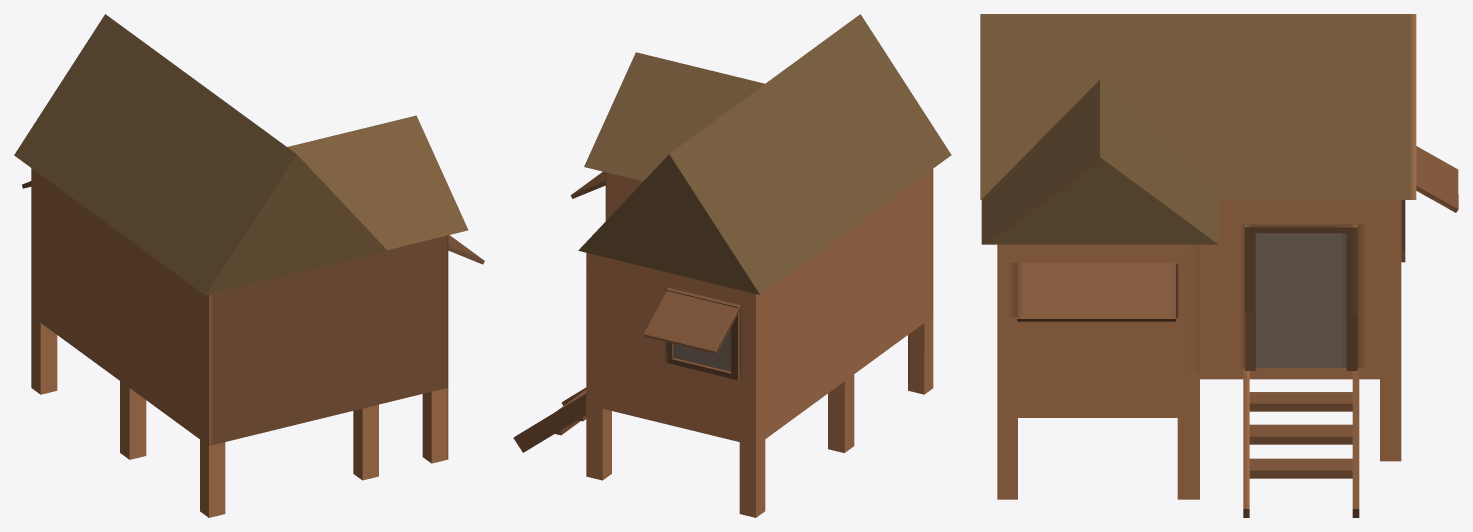
The model's file is KUBO.fbx.
3 views of the same model, side by side, from view 1: azimuth 30°, elevation 25°; view 2: azimuth 150°, elevation 25°; view 3: azimuth 270°, elevation 25° (orthographic). The views are drawn at different scales.
Visible parts, largest first — view 1: KUBO; view 2: KUBO; view 3: KUBO.
Part boxes in pixels (x1,y1,x2,y2): KUBO: (14,14,484,517); KUBO: (513,14,951,517); KUBO: (980,14,1458,517).
Bounding box in the file's own units: 1723 × 2003 × 2123.
1 material, 1 textured.
